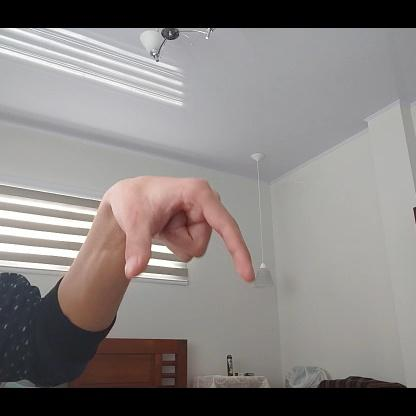Q: (113, 174, 259, 285)
